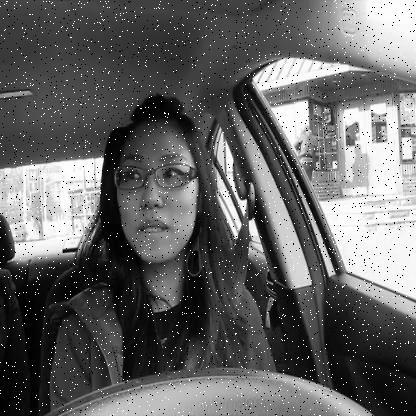seatbelt: (73, 86, 260, 400)
